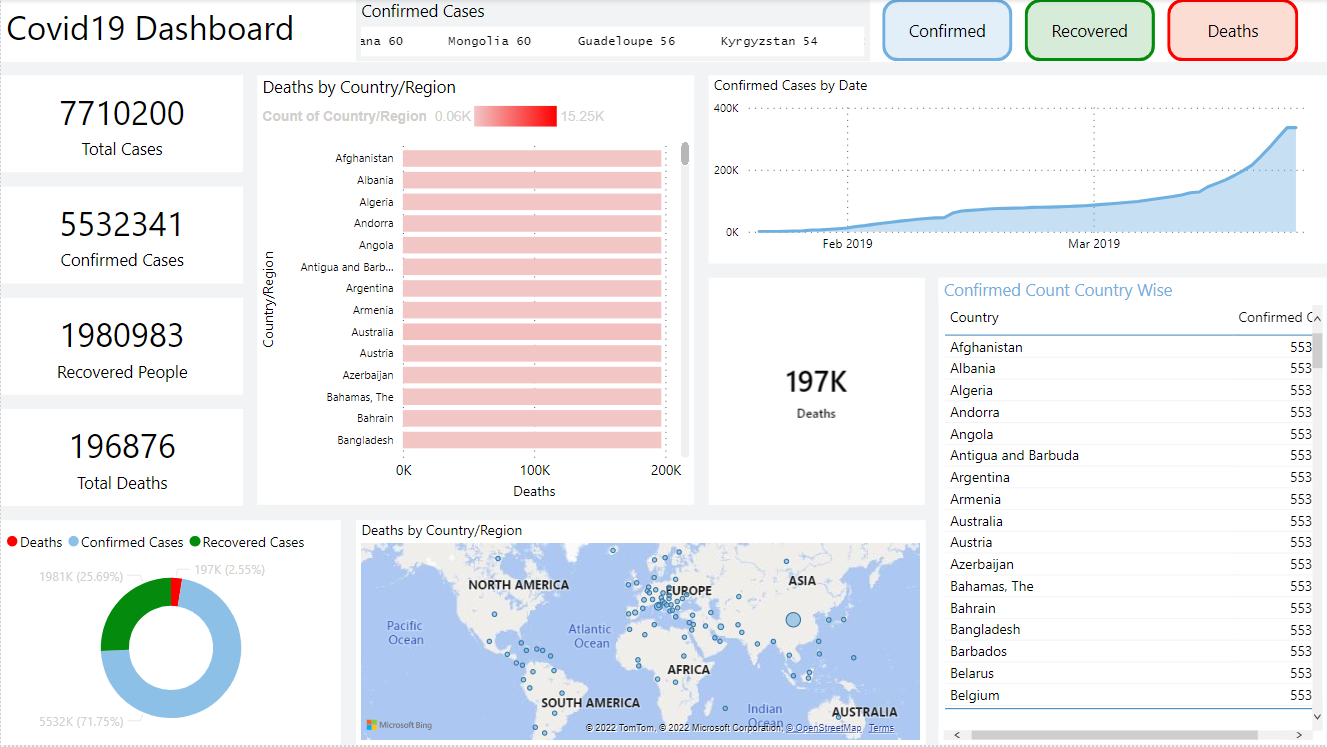

Layout of this report page (visuals, bound fields, positions):
{"tool":"powerbi","page":{"name":"Covid19 Dashboard","canvas":[1280,720],"ordinal":0},"visuals":[{"type":"textbox","box":[0,0,1280,60.4],"z":0},{"type":"card","fields":{"Values":["Countries.Total Cases"]},"box":[0,74.2,233.5,93.4],"z":1000},{"type":"card","fields":{"Values":["Sum(Confirmed Cases.Confirmed)"]},"box":[0,181.3,233.5,93.4],"z":2000},{"type":"card","fields":{"Values":["Sum(Recovered Cases.Recovered)"]},"box":[0,288.4,233.5,93.4],"z":3000},{"type":"card","fields":{"Values":["Sum(Death Cases.Death)"]},"box":[0,395.5,233.5,93.4],"z":4000},{"type":"donutChart","fields":{"Y":["Sum(Death Cases.Death)","Sum(Confirmed Cases.Confirmed)","Sum(Recovered Cases.Recovered)"]},"box":[0,502.7,328.2,217],"z":5000},{"type":"barChart","fields":{"Category":["Confirmed Cases.Country/Region"],"Y":["Sum(Death Cases.Death)"]},"box":[247.2,74.2,421.6,414.8],"z":6000},{"type":"map","title":"Deaths by Country/Region","fields":{"Category":["Death Cases.Country/Region"],"Size":["Sum(Death Cases.Death)"]},"box":[342,502.7,549.4,217],"z":7000},{"type":"rotatingTile1859AB39DB23400988ADF752BCB9C967","fields":{"measureData":["Countries.Total Cases","Sum(Confirmed Cases.Confirmed)","Sum(Recovered Cases.Recovered)","Sum(Death Cases.Death)"]},"box":[682.6,268.9,208.6,219.5],"z":8000},{"type":"areaChart","title":"Confirmed Cases by Date","fields":{"Y":["Sum(Confirmed Cases.Confirmed)"],"Category":["Confirmed Cases.Date"]},"box":[682.6,74.2,597.4,181.3],"z":9000},{"type":"actionButton","title":"Confirmed","box":[850.3,0,125.4,60.3],"z":10000},{"type":"actionButton","title":"Confirmed","box":[987.7,0,125.4,60.3],"z":12000},{"type":"actionButton","title":"Confirmed","box":[1125.2,0,126.6,60.3],"z":13000},{"type":"ScrollingTextVisual1448795304508","title":"Confirmed Cases","fields":{"Category":["Confirmed Cases.Country/Region"],"Measure Absolute":["Sum(Confirmed Cases.Confirmed)"]},"box":[342.5,0,495.7,60.3],"z":16000},{"type":"tableEx","title":"Confirmed Count Country Wise","fields":{"Values":["Death Cases.Country/Region","Sum(Confirmed Cases.Confirmed)"]},"box":[904.9,268.6,375.1,450.6],"z":18000}]}

Visuals, with their boxes in screenshot pixels (x1, y1, x2, y2), scaled from the page's 1280x720 canvas onto the 1327x747 screenshot:
textbox: [left=0, top=0, right=1326, bottom=63]
card - Countries.Total Cases: [left=0, top=77, right=242, bottom=174]
card - Sum(Confirmed Cases.Confirmed): [left=0, top=188, right=242, bottom=285]
card - Sum(Recovered Cases.Recovered): [left=0, top=299, right=242, bottom=396]
card - Sum(Death Cases.Death): [left=0, top=410, right=242, bottom=507]
donutChart - Sum(Death Cases.Death) x Sum(Confirmed Cases.Confirmed): [left=0, top=522, right=340, bottom=746]
barChart - Confirmed Cases.Country/Region x Sum(Death Cases.Death): [left=256, top=77, right=693, bottom=507]
"Deaths by Country/Region" map: [left=355, top=522, right=924, bottom=746]
rotatingTile1859AB39DB23400988ADF752BCB9C967 - Countries.Total Cases x Sum(Confirmed Cases.Confirmed): [left=708, top=279, right=924, bottom=507]
"Confirmed Cases by Date" areaChart: [left=708, top=77, right=1326, bottom=265]
"Confirmed" actionButton: [left=882, top=0, right=1012, bottom=63]
"Confirmed" actionButton: [left=1024, top=0, right=1154, bottom=63]
"Confirmed" actionButton: [left=1167, top=0, right=1298, bottom=63]
"Confirmed Cases" ScrollingTextVisual1448795304508: [left=355, top=0, right=869, bottom=63]
"Confirmed Count Country Wise" tableEx: [left=938, top=279, right=1326, bottom=746]
